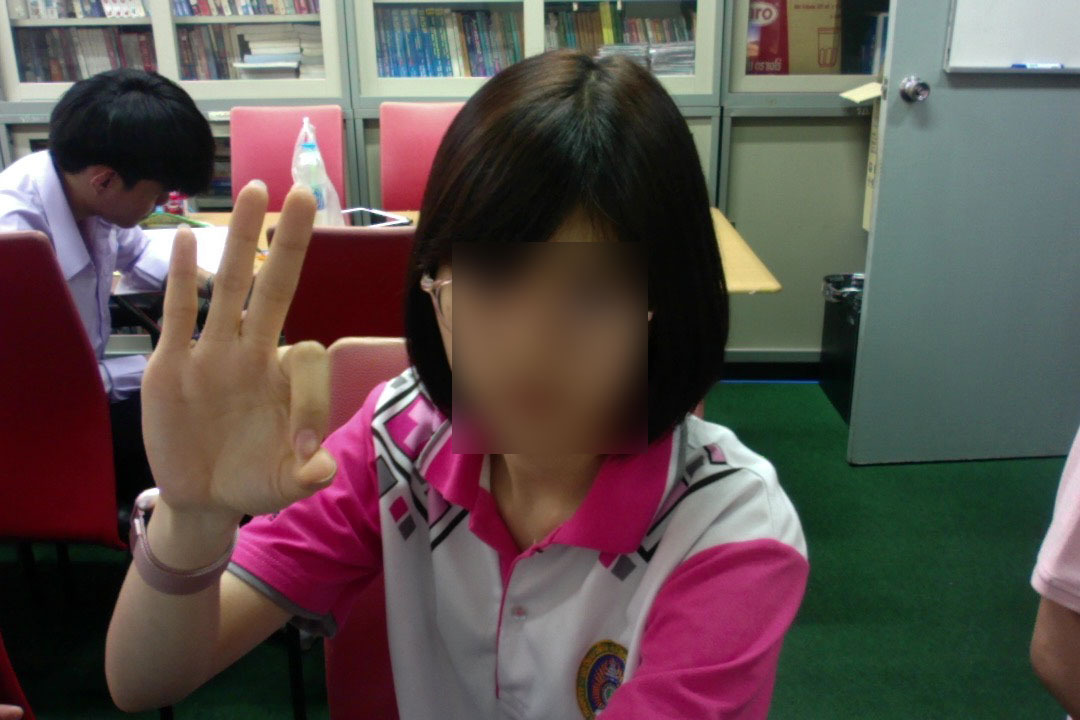for: (127, 168, 346, 546)
